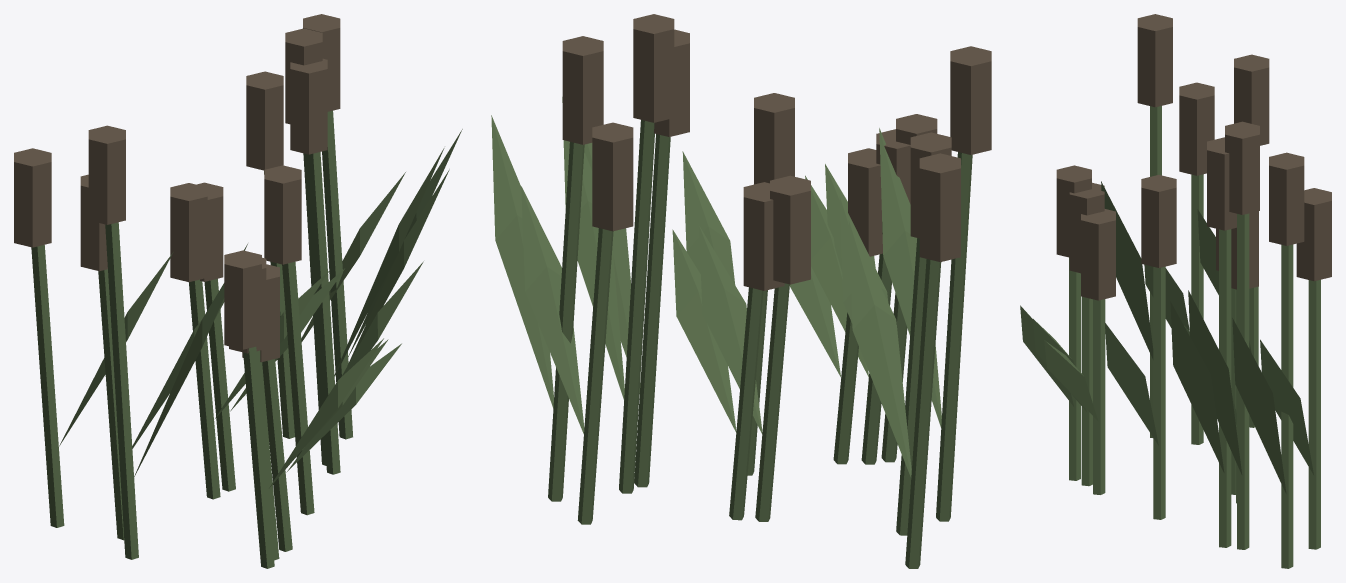
The model's file is Decor_Reeds.fbx.
3 views of the same model, side by side, from view 1: azimuth 30°, elevation 25°; view 2: azimuth 150°, elevation 25°; view 3: azimuth 270°, elevation 25° (orthographic). The views are drawn at different scales.
Parts seen in each view (by area): view 1: Decor_Reeds; view 2: Decor_Reeds; view 3: Decor_Reeds.
Part boxes in pixels (x1,y1,x2,y2): Decor_Reeds: [14, 14, 462, 568]; Decor_Reeds: [491, 14, 991, 568]; Decor_Reeds: [1020, 14, 1331, 568].
Size of the model in its own units: 1.75 by 1.65 by 1.15.
